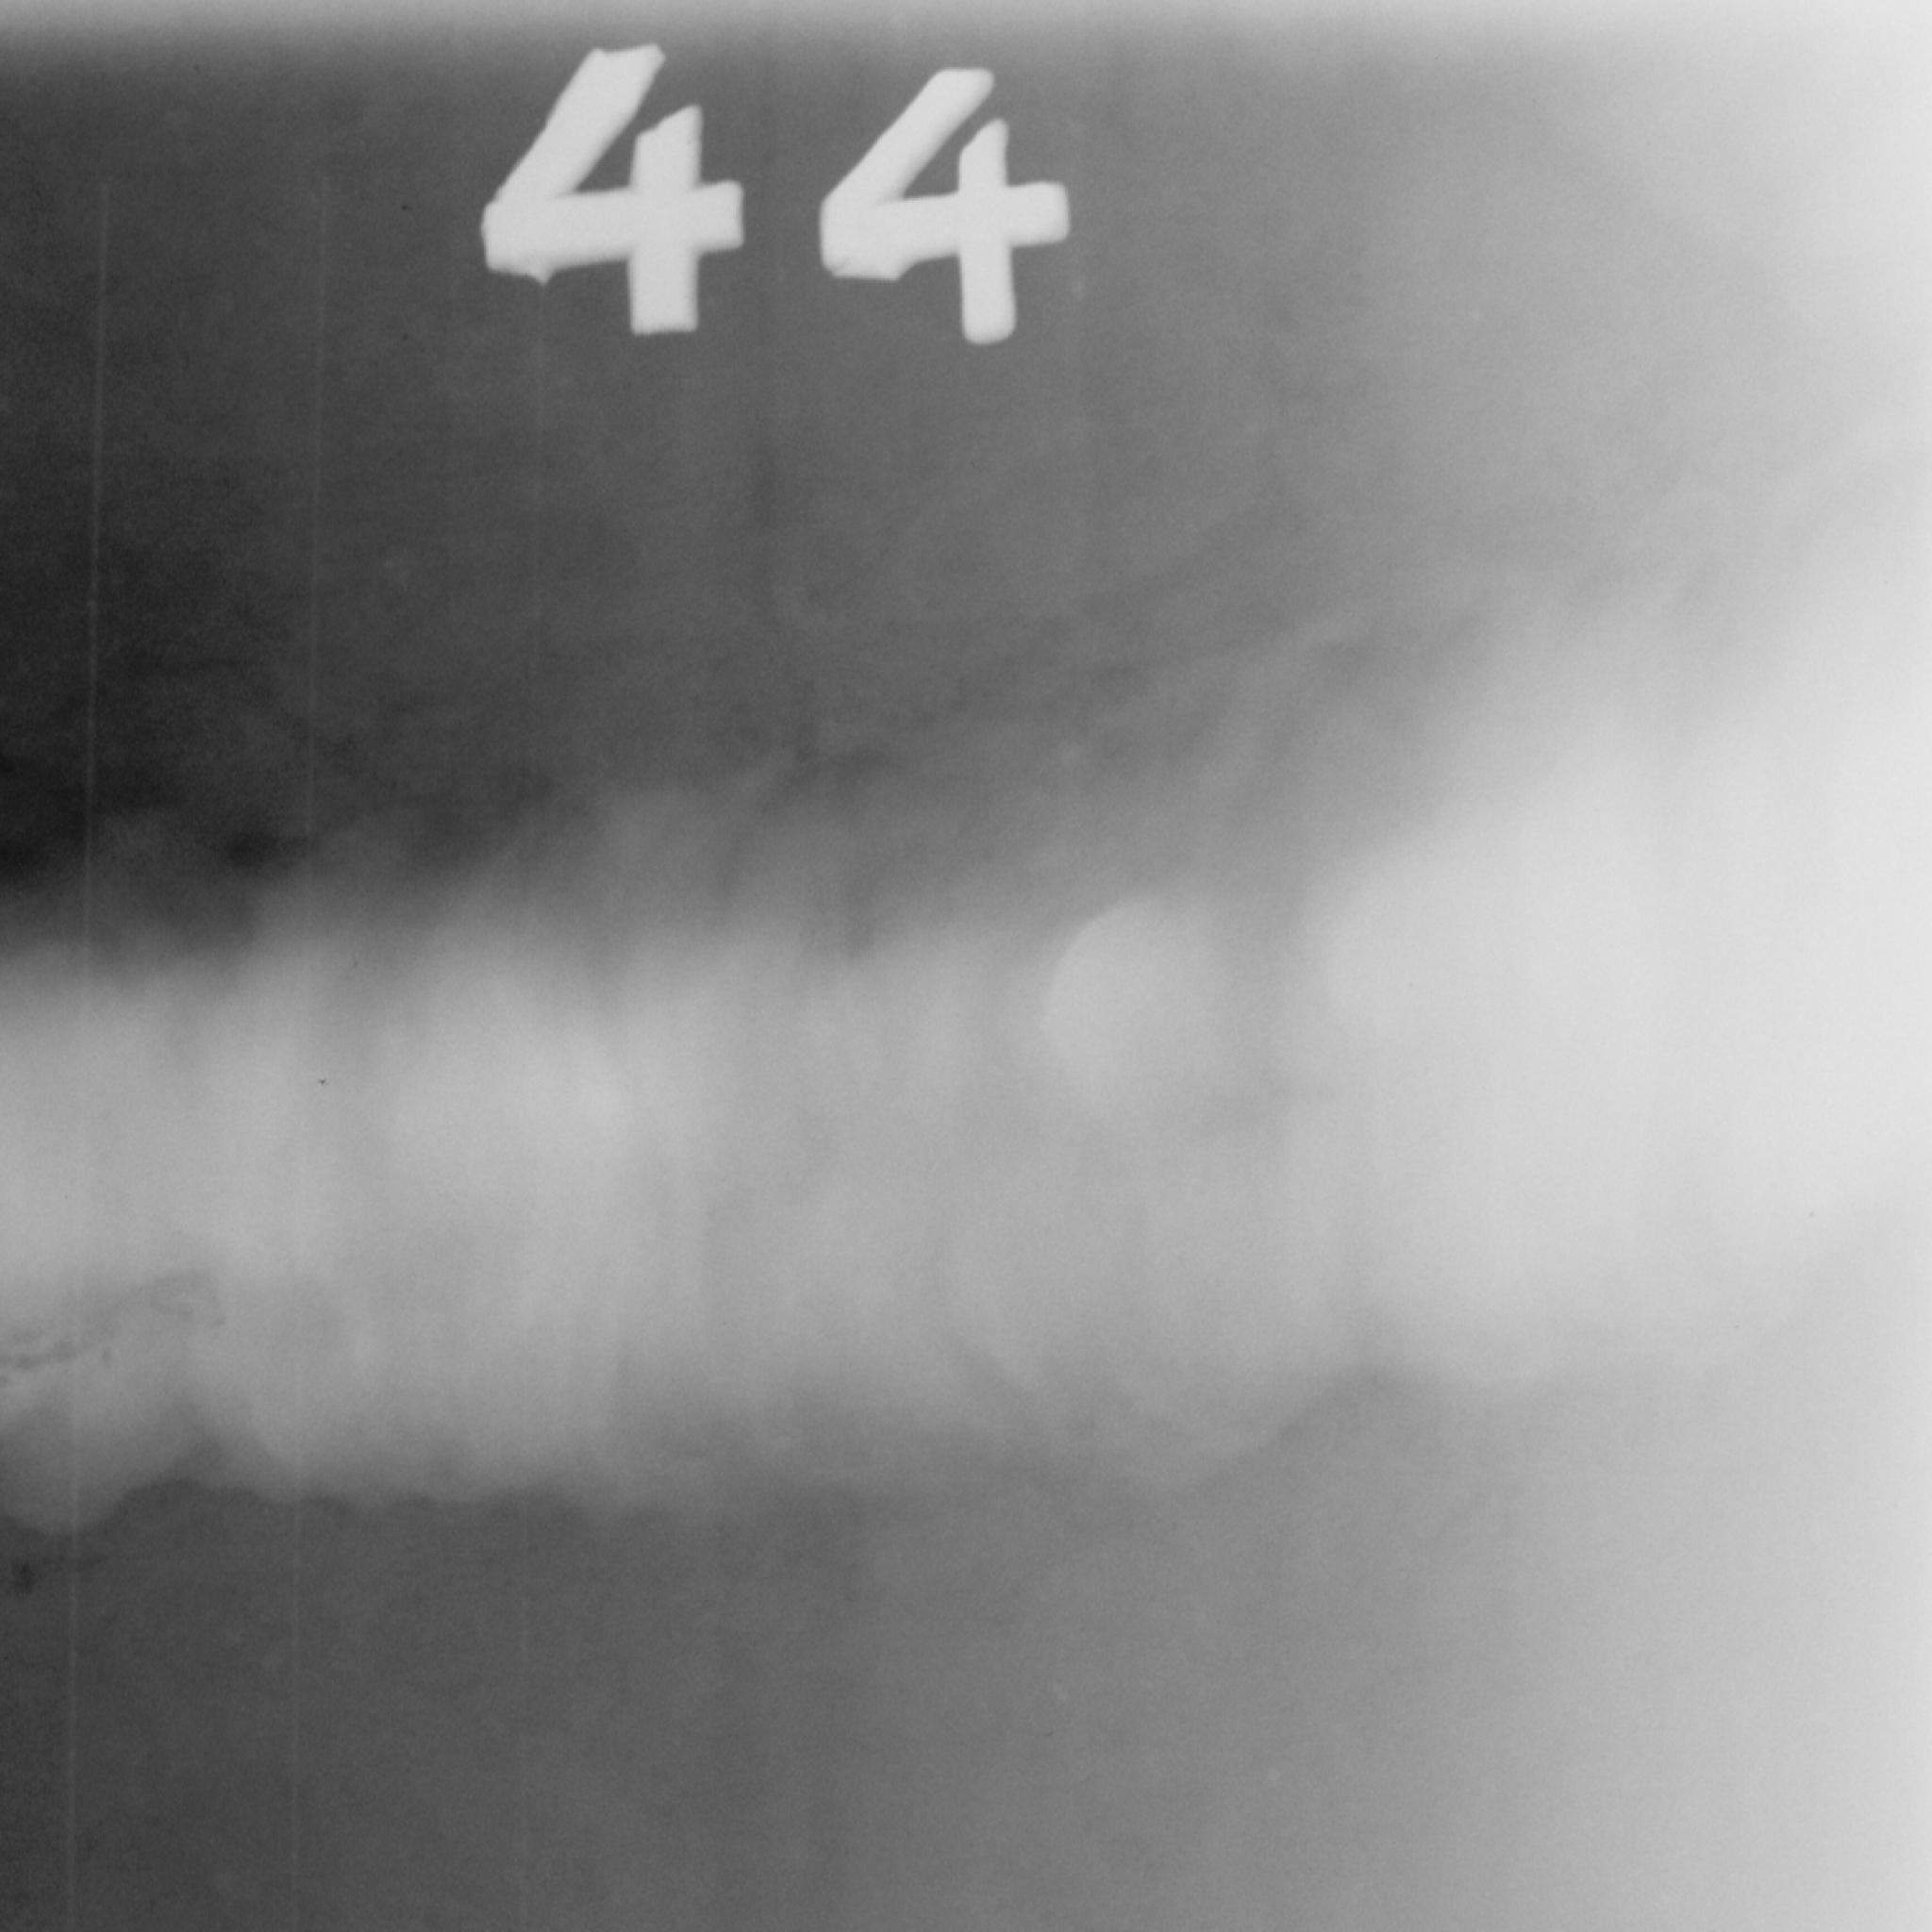FF: (0, 722, 904, 1629)
